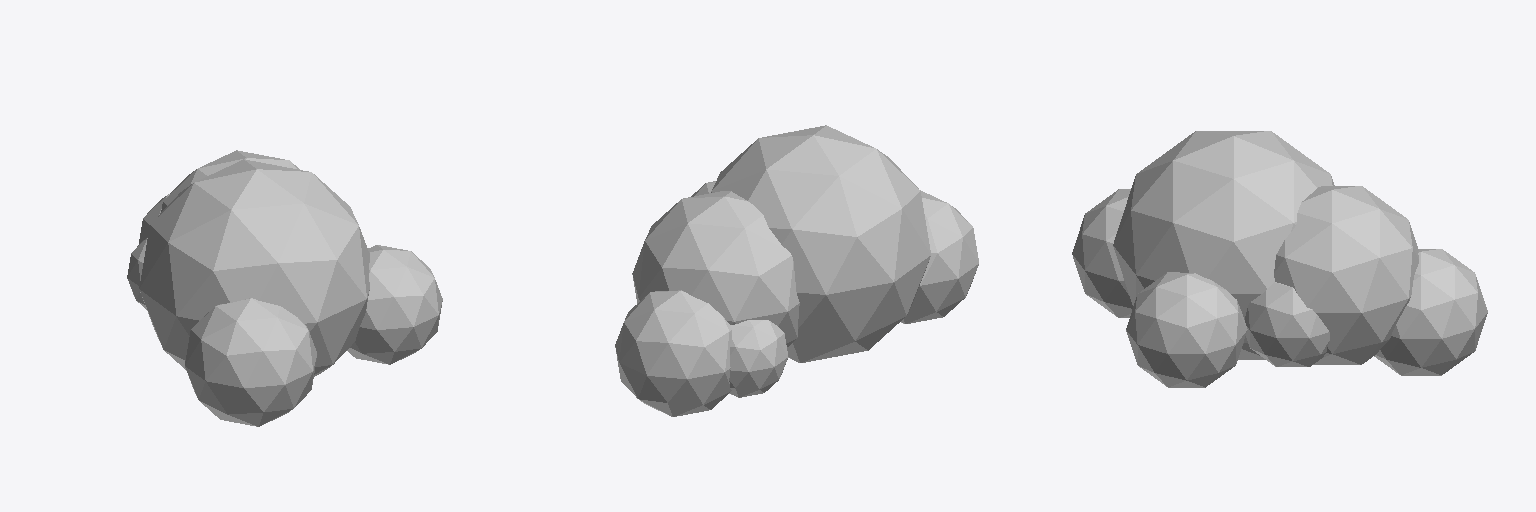
The model's file is Stone1.obj.
3 views of the same model, side by side, from view 1: azimuth 30°, elevation 25°; view 2: azimuth 150°, elevation 25°; view 3: azimuth 270°, elevation 25° (orthographic).
Visible parts, largest first — view 1: Icosphere_016, Icosphere_013, Icosphere_015, Icosphere_017, Icosphere_014; view 2: Icosphere_016, Icosphere_017, Icosphere_012, Icosphere_013, Icosphere_014; view 3: Icosphere_016, Icosphere_017, Icosphere_015, Icosphere_012, Icosphere_011, Icosphere_013.
Part boxes in pixels (bbox=[...]): Icosphere_016: bbox=[139, 159, 369, 376]; Icosphere_013: bbox=[185, 298, 317, 426]; Icosphere_015: bbox=[347, 245, 442, 364]; Icosphere_017: bbox=[161, 150, 299, 211]; Icosphere_014: bbox=[127, 238, 147, 309]; Icosphere_016: bbox=[711, 125, 930, 362]; Icosphere_017: bbox=[632, 191, 799, 346]; Icosphere_012: bbox=[615, 290, 731, 416]; Icosphere_013: bbox=[901, 190, 978, 323]; Icosphere_014: bbox=[729, 320, 787, 397]; Icosphere_016: bbox=[1113, 131, 1334, 359]; Icosphere_017: bbox=[1274, 186, 1418, 364]; Icosphere_015: bbox=[1126, 272, 1247, 387]; Icosphere_012: bbox=[1374, 249, 1487, 375]; Icosphere_011: bbox=[1245, 282, 1329, 366]; Icosphere_013: bbox=[1072, 189, 1132, 317].
Size of the model in its own units: 10.55 by 8.42 by 14.53.